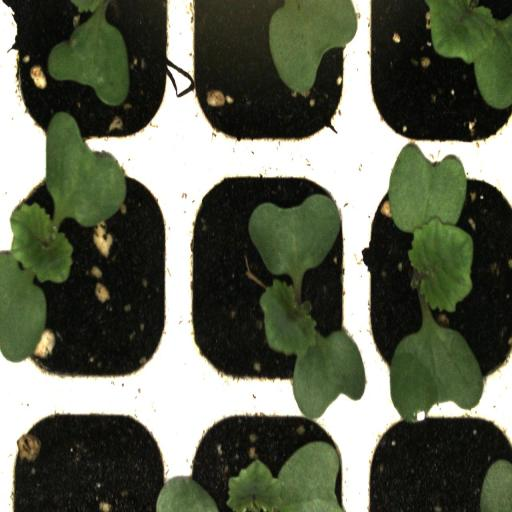seedling: (180, 157, 358, 400), (4, 154, 178, 396), (359, 157, 512, 398)
